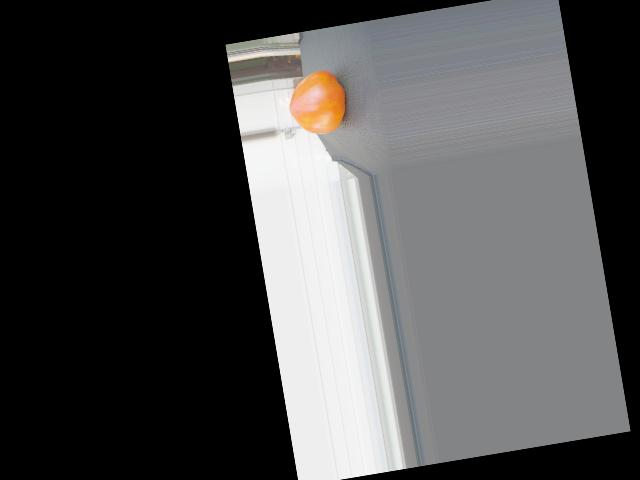tomato: (283, 67, 350, 138)
